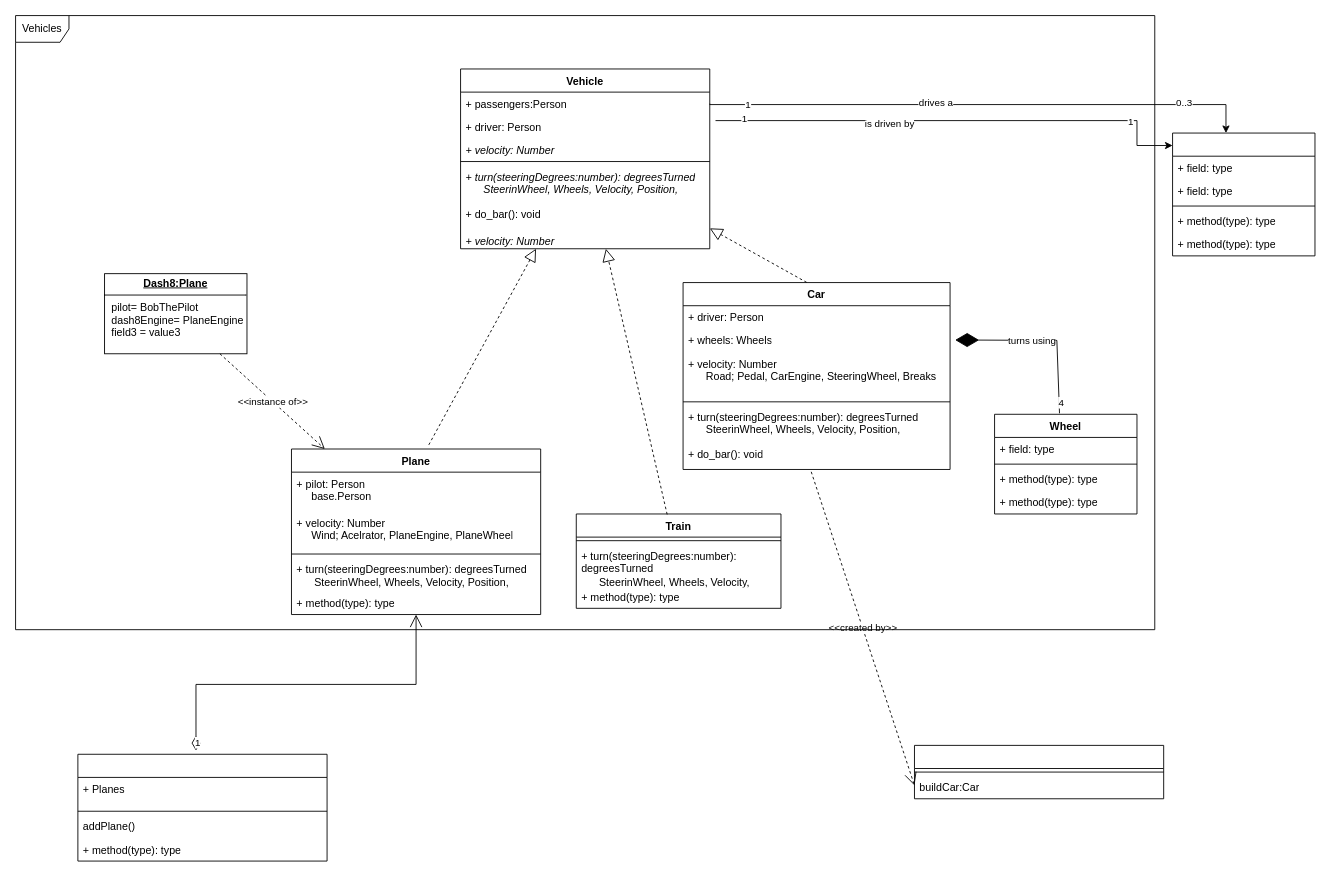
The diagram is 1331 pixels wide and 879 high, and some of its shapes have lost their labels. Here are the shapes that lost their labels. From the top down, the box of each, then its label:
(1172, 132, 1315, 256): Person
(914, 744, 1164, 799): CarFactory
(77, 753, 327, 861): Fleet
